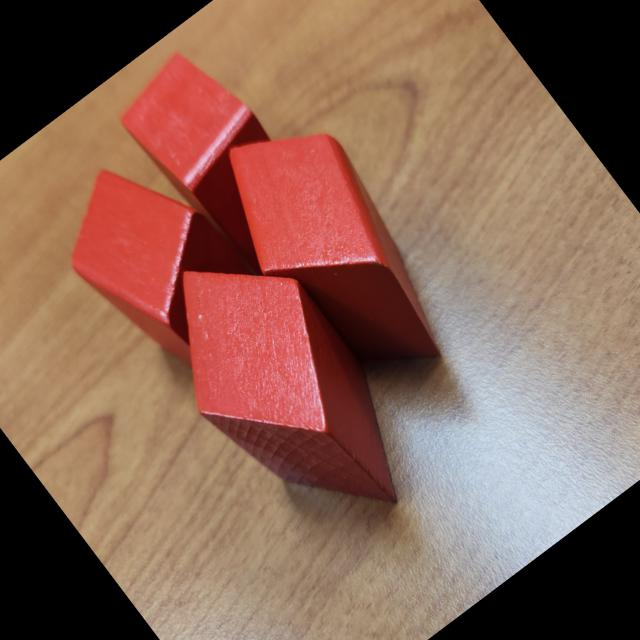red: (124, 217, 445, 568), (191, 94, 479, 412), (35, 129, 284, 389), (106, 36, 333, 284)
